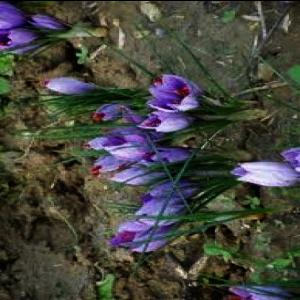Saffron: (146, 72, 206, 112), (231, 155, 300, 187), (136, 193, 196, 224), (230, 281, 300, 300), (142, 143, 198, 165), (39, 76, 102, 95), (26, 12, 70, 31)
